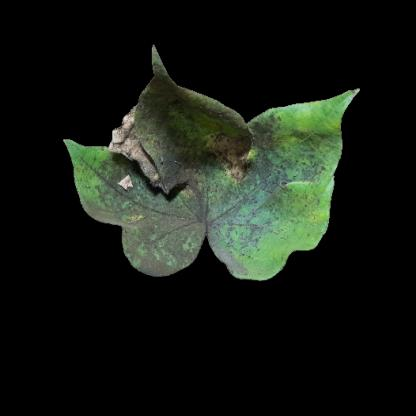sooty: (135, 114, 211, 256), (224, 150, 277, 252), (293, 202, 330, 243)
